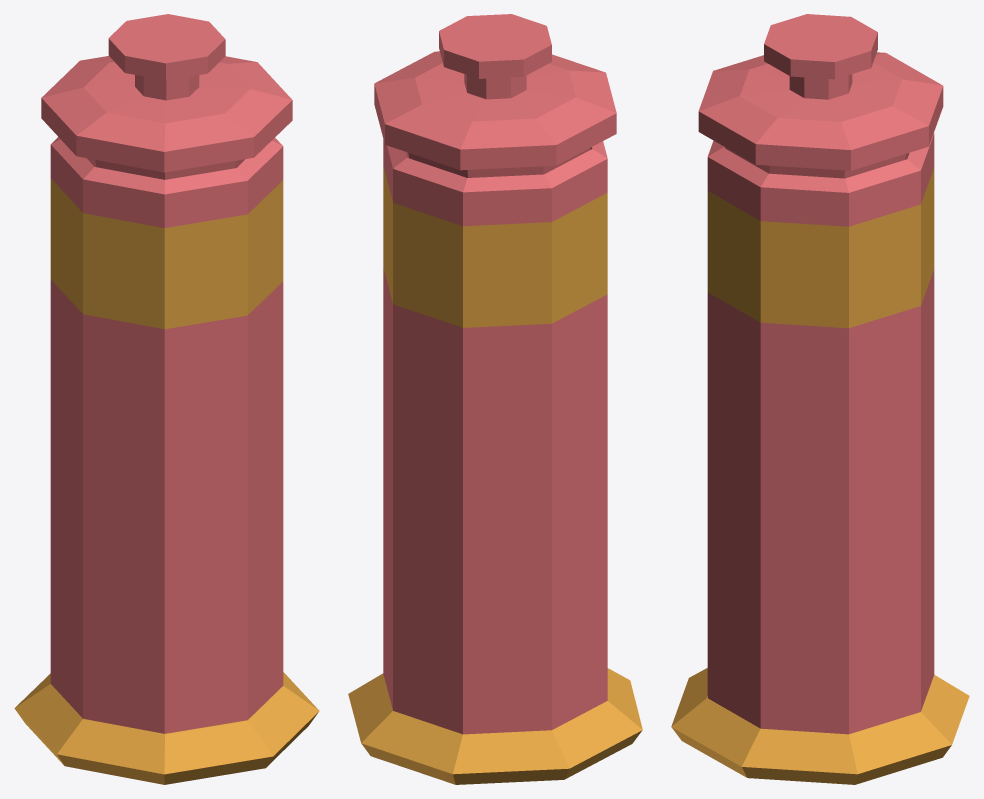
The model's file is SM_Jar_Snake_Striped.fbx.
3 renders of one model, left to right at view 1: azimuth 30°, elevation 25°; view 2: azimuth 150°, elevation 25°; view 3: azimuth 270°, elevation 25°, orthographic.
Visible parts, largest first — view 1: jar-snake-striped; view 2: jar-snake-striped; view 3: jar-snake-striped.
Part boxes in pixels (<box>): jar-snake-striped: <box>14,14,319,784</box>; jar-snake-striped: <box>348,14,642,784</box>; jar-snake-striped: <box>671,14,969,784</box>.
Bounding box in the file's own units: 0.2923 × 0.7462 × 0.2932.
